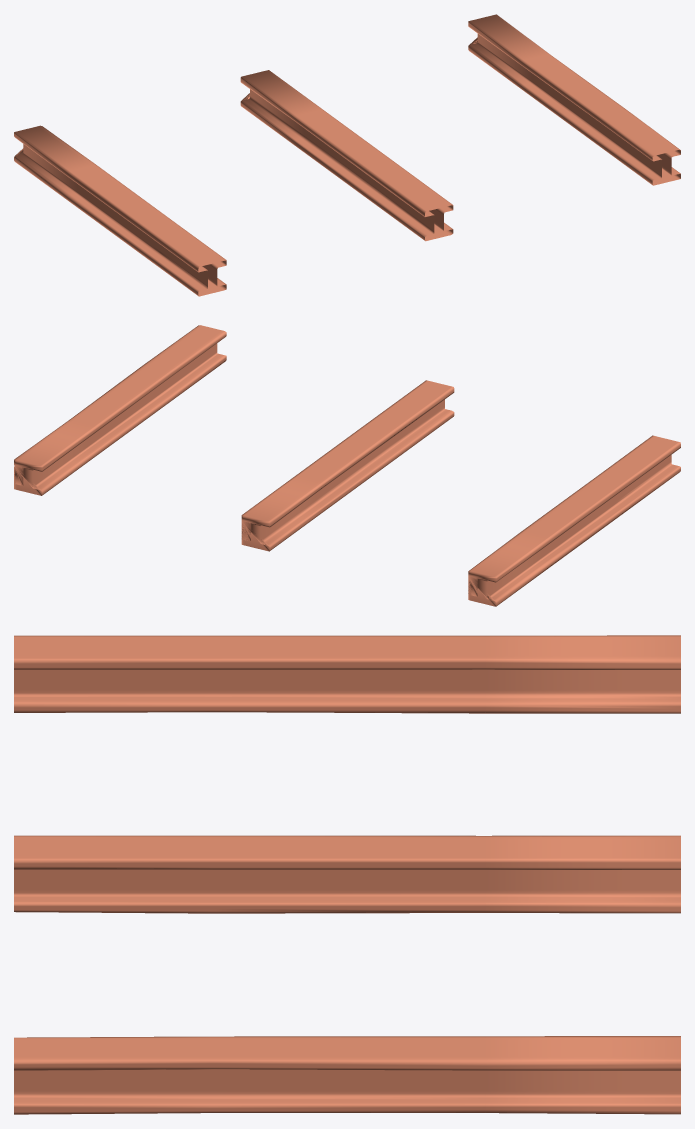
The model's file is Industrial_New_Beams_3.fbx.
3 views of the same model, one above another, from view 1: azimuth 30°, elevation 25°; view 2: azimuth 150°, elevation 25°; view 3: azimuth 270°, elevation 25° (orthographic). The views are drawn at different scales.
Parts seen in each view (by area): view 1: NurbsPath.006; view 2: NurbsPath.006; view 3: NurbsPath.006.
Boxes of the visible parts, x1=… form: NurbsPath.006: x1=14, y1=14, x2=680, y2=296; NurbsPath.006: x1=14, y1=325, x2=680, y2=606; NurbsPath.006: x1=14, y1=635, x2=680, y2=1114.
Bounding box in the file's own units: 426 × 25 × 282.
